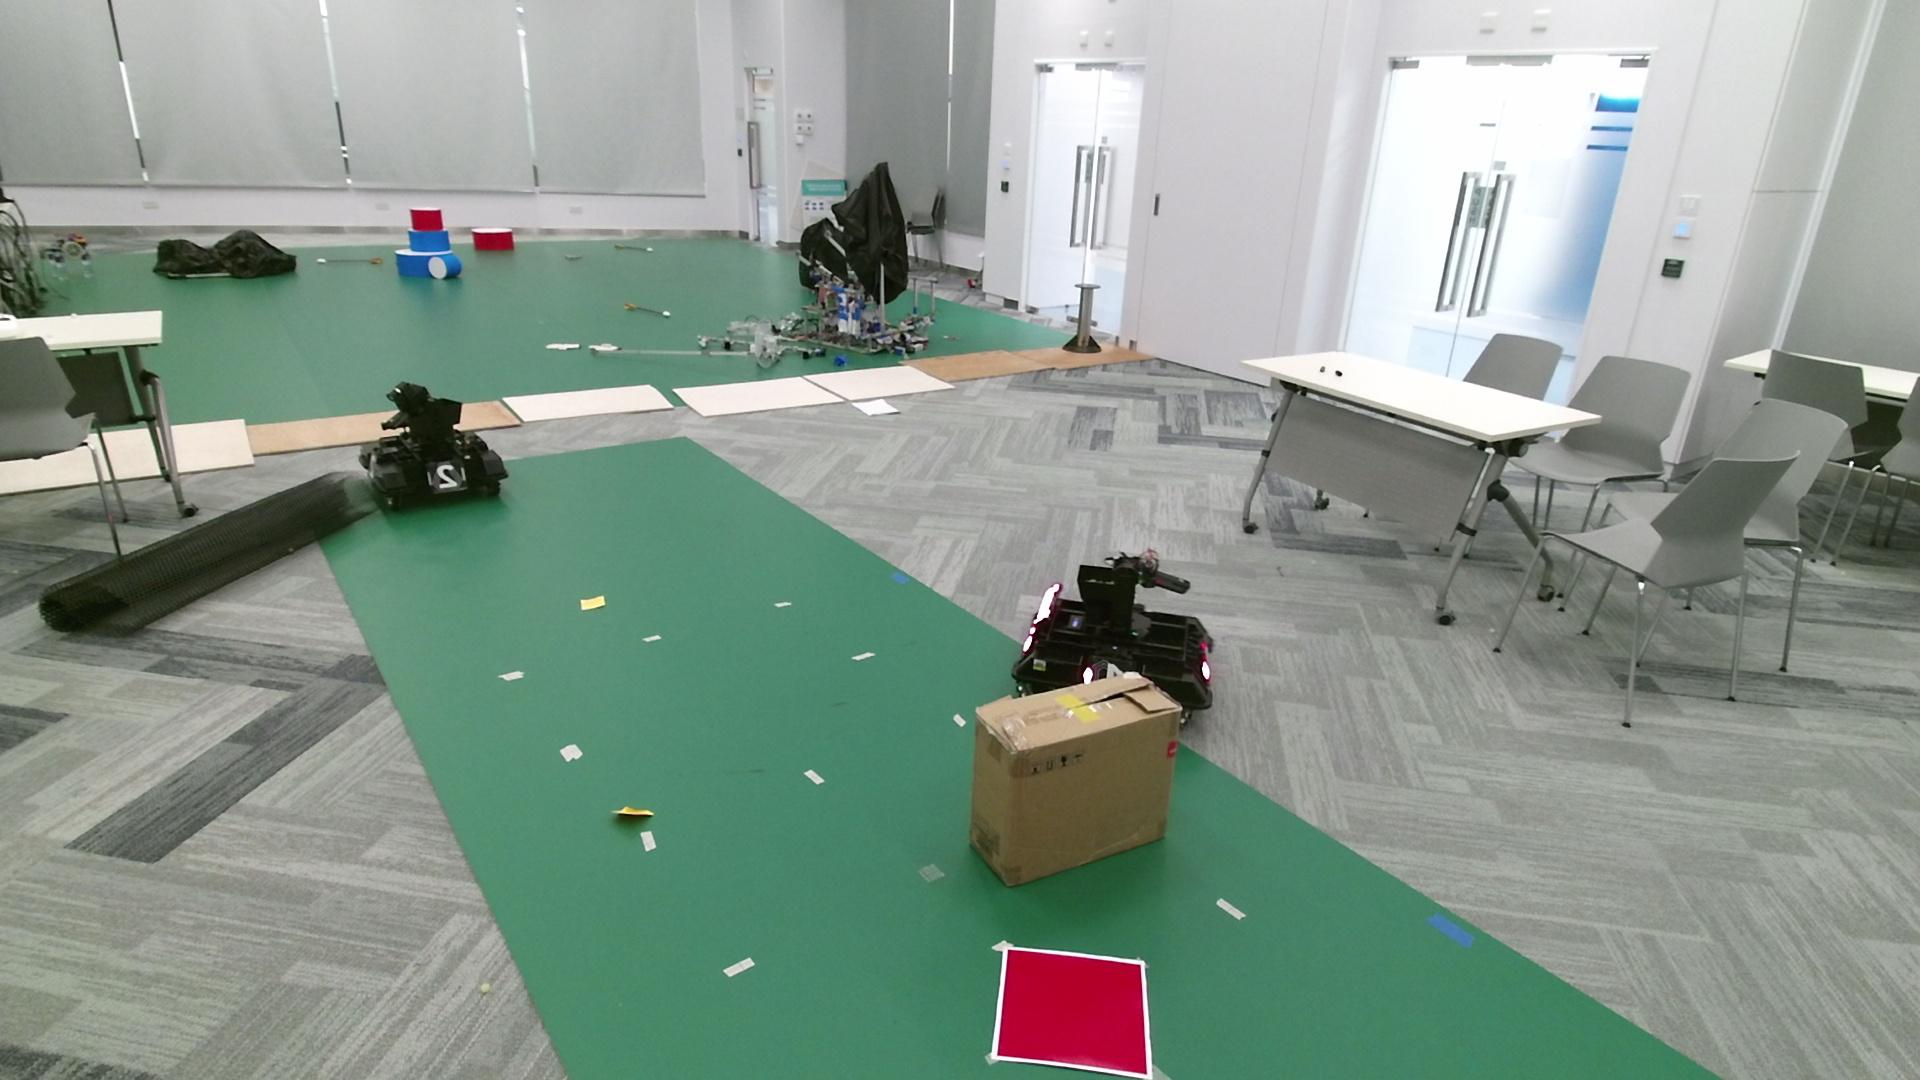robot: (1010, 546, 1217, 731), (357, 380, 509, 508)
